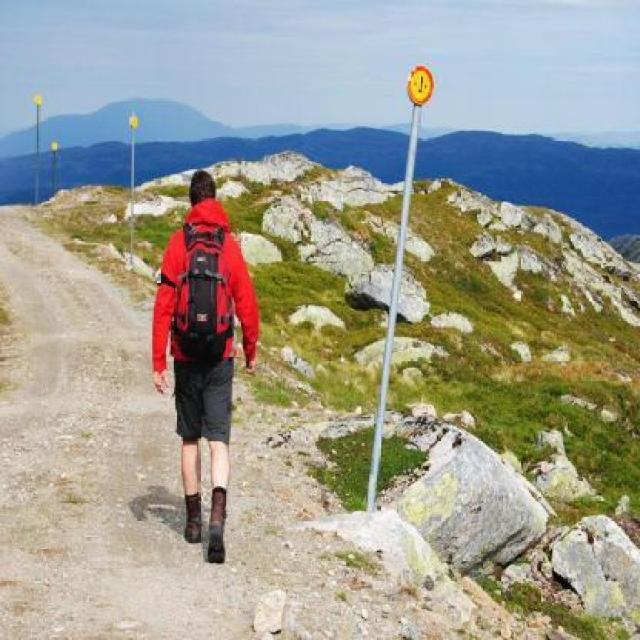backpack: (170, 226, 236, 363)
